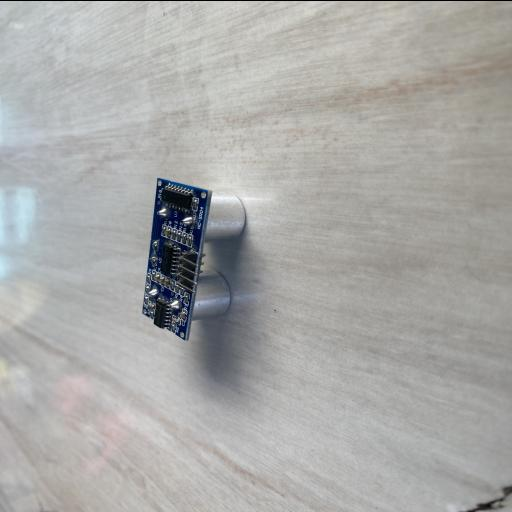Ultrasonic Sensor: (141, 176, 246, 340)
